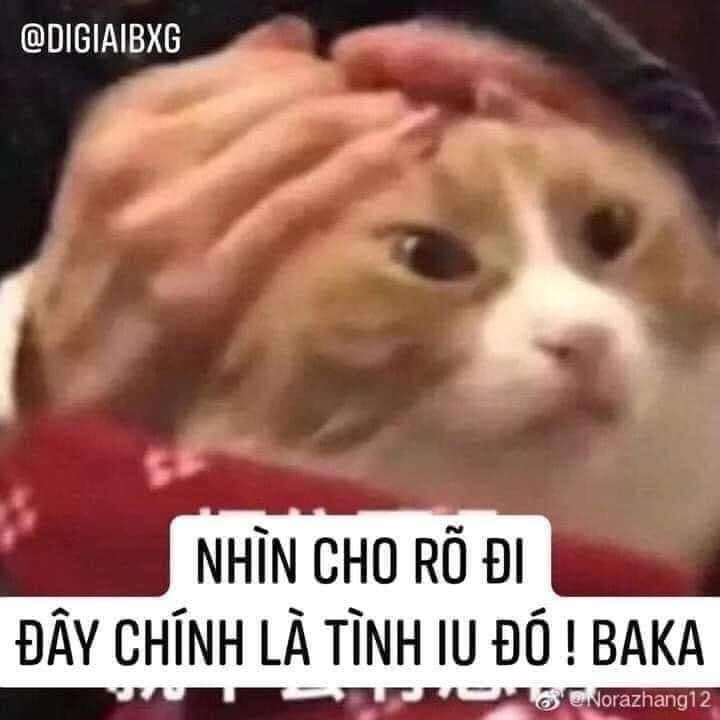cat: (212, 111, 718, 502)
